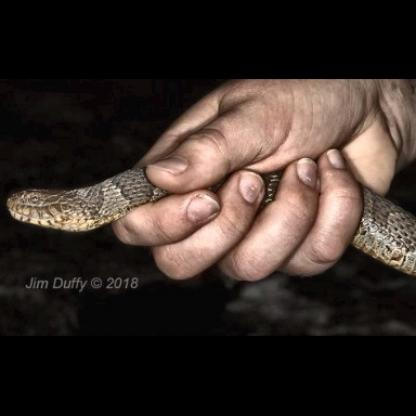Snake: (10, 106, 410, 288)
